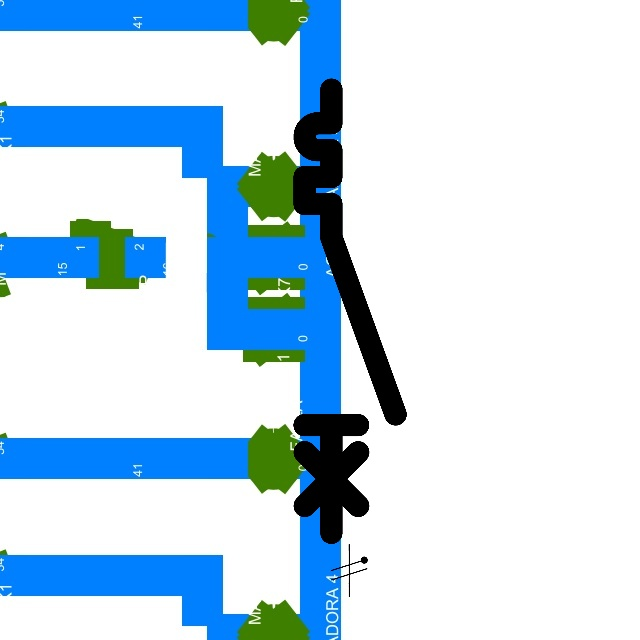interruptor_termomagnetico: (293, 78, 407, 544)
